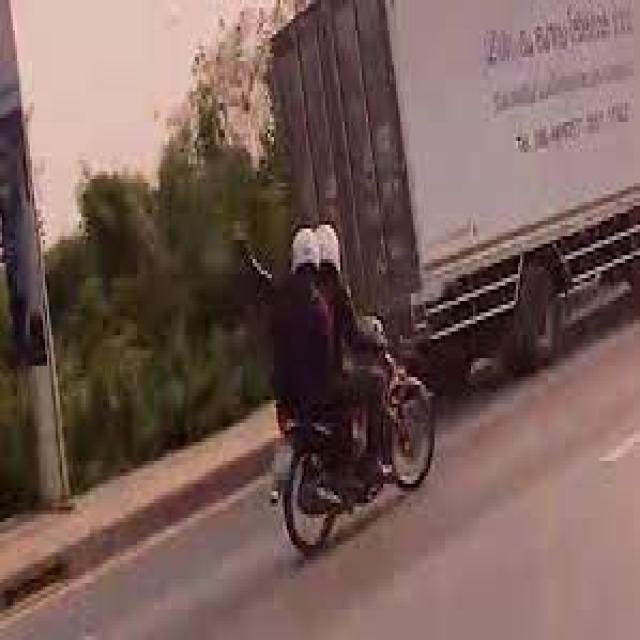gun: (228, 224, 258, 273)
helmet: (285, 224, 319, 286), (317, 222, 350, 281)
